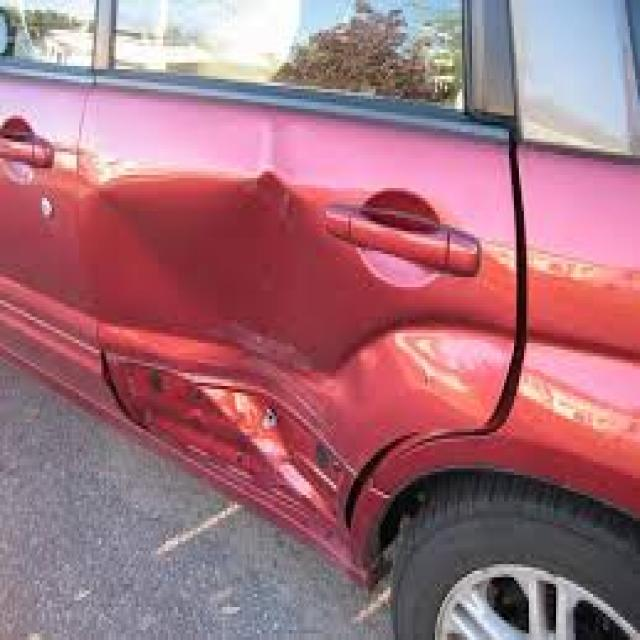minor: (115, 162, 402, 501)
